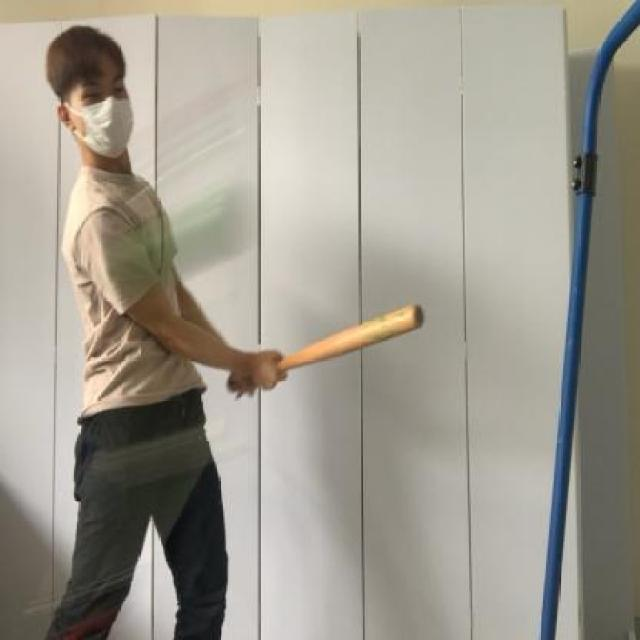baseball: (82, 172, 256, 311)
